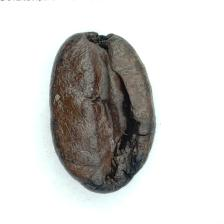NG: (82, 66, 149, 191)
